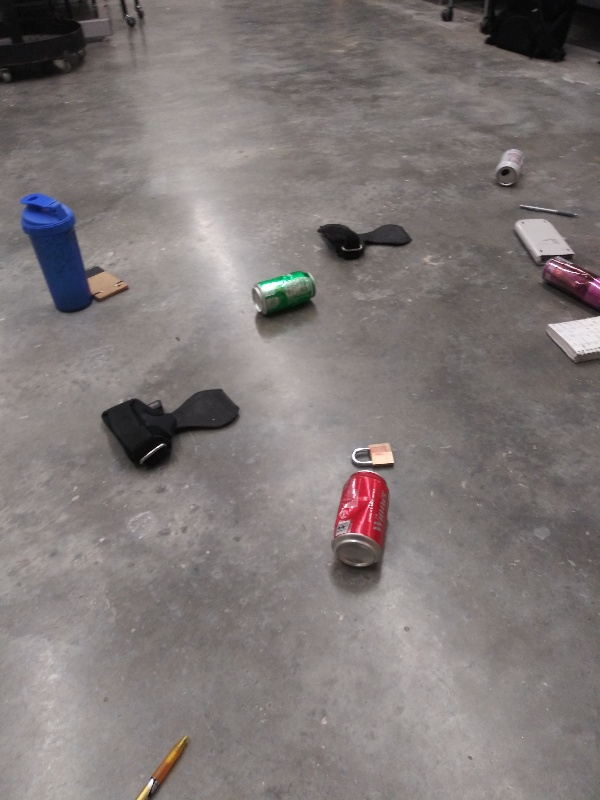can: (327, 467, 395, 573), (248, 268, 320, 324), (536, 255, 600, 317), (492, 145, 532, 190)
